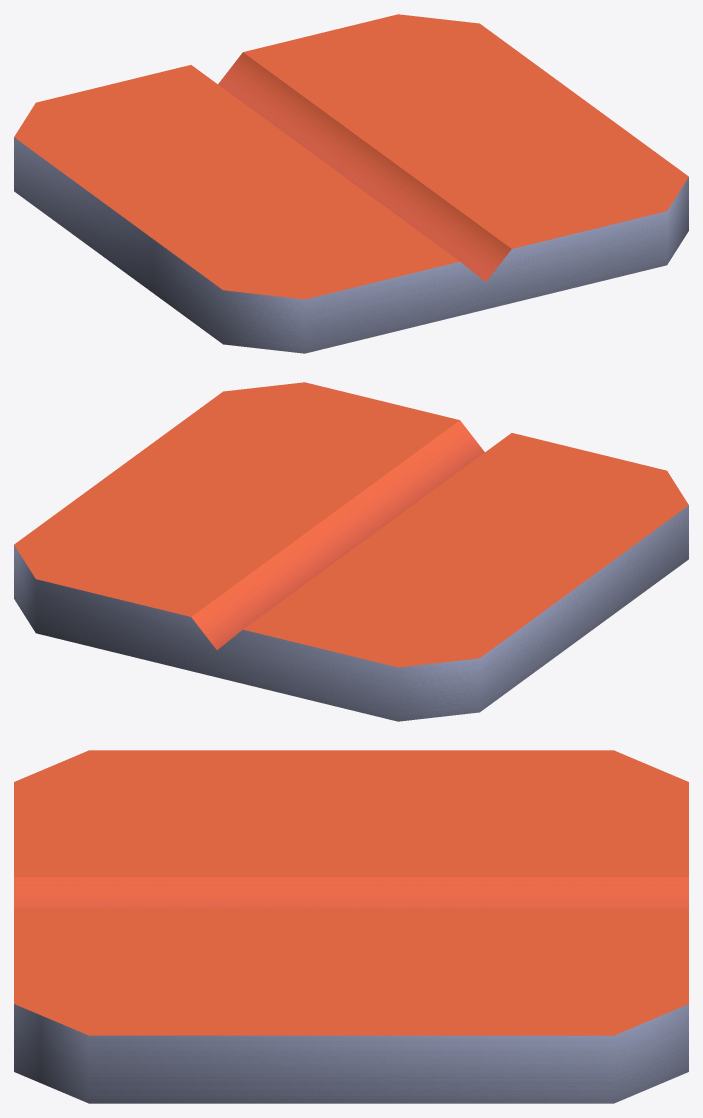
File: debris-plate-a.glb
The picture shows the model from 3 angles, top to bottom: view 1: azimuth 30°, elevation 25°; view 2: azimuth 150°, elevation 25°; view 3: azimuth 270°, elevation 25°; orthographic projection. The views are drawn at different scales.
Visible parts, largest first — view 1: debris-plate-a; view 2: debris-plate-a; view 3: debris-plate-a.
Part boxes in pixels (box(x1,y1,x2,y2)): debris-plate-a: box(14, 14, 688, 353); debris-plate-a: box(14, 382, 688, 721); debris-plate-a: box(14, 750, 688, 1103).
Bounding box in the file's own units: 0.9 × 0.1 × 0.9.
1 material, 1 textured.
